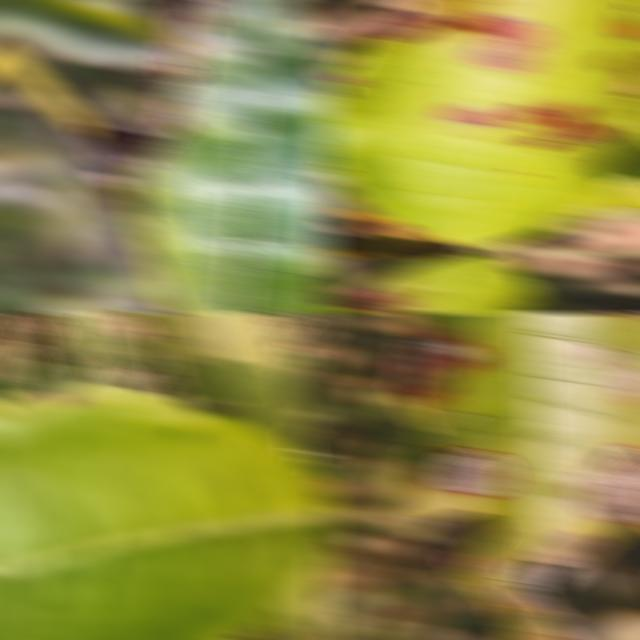Leaf: (0, 382, 334, 640), (396, 312, 640, 640), (318, 0, 640, 248), (126, 0, 334, 314), (142, 312, 303, 453), (0, 0, 173, 70), (573, 132, 640, 217), (47, 312, 123, 377), (265, 570, 334, 640), (117, 333, 170, 373), (0, 312, 21, 389)
